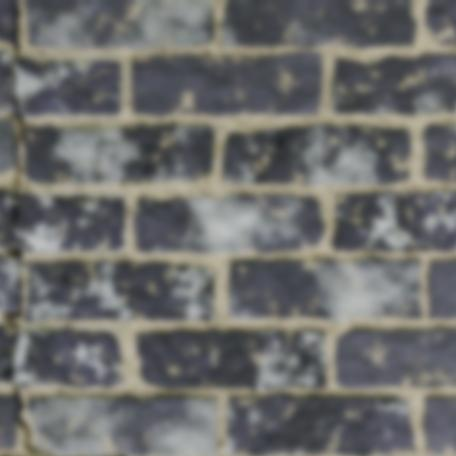brick: (131, 52, 322, 116), (229, 258, 421, 320), (24, 261, 215, 322), (136, 329, 326, 390), (227, 394, 414, 455), (28, 395, 216, 455), (223, 124, 410, 184), (134, 194, 324, 253), (24, 125, 214, 183), (222, 0, 415, 48), (24, 0, 213, 48), (332, 191, 455, 252), (332, 53, 455, 114), (335, 329, 455, 388), (423, 124, 455, 181), (423, 397, 455, 453), (428, 261, 455, 318), (425, 0, 455, 44), (0, 256, 18, 310), (0, 395, 16, 448), (0, 119, 15, 172), (0, 0, 15, 43), (446, 2, 455, 15)
broken_brick: (13, 328, 125, 388), (15, 193, 125, 252), (15, 56, 121, 117), (0, 188, 12, 248), (0, 325, 11, 384), (0, 49, 10, 111)
crack: (0, 0, 50, 453), (40, 260, 86, 306), (269, 349, 293, 387), (133, 203, 158, 235), (307, 346, 321, 389), (396, 282, 408, 317), (433, 0, 455, 19), (271, 396, 295, 404), (416, 313, 423, 319), (115, 453, 126, 455), (429, 124, 433, 128)
